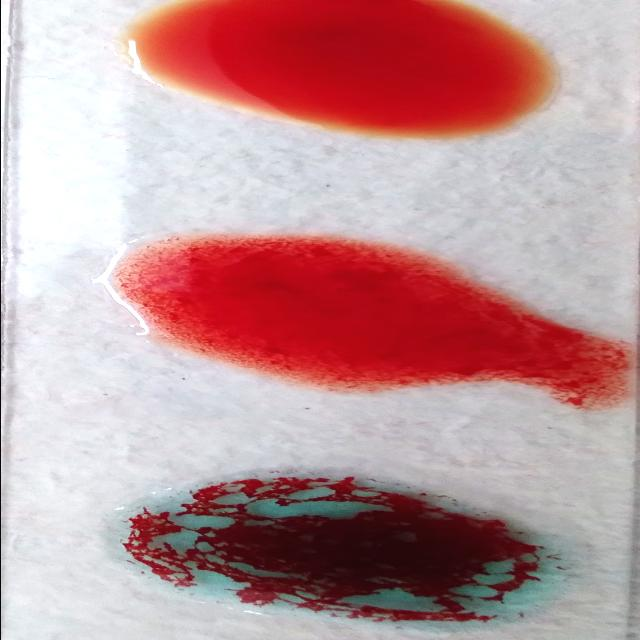A: (107, 465, 593, 628)
D: (106, 245, 621, 392)
